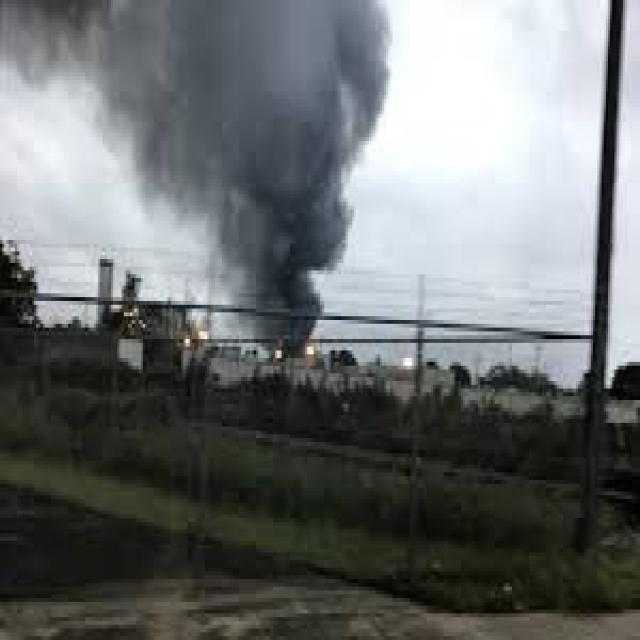Smoke: (0, 0, 393, 358)
